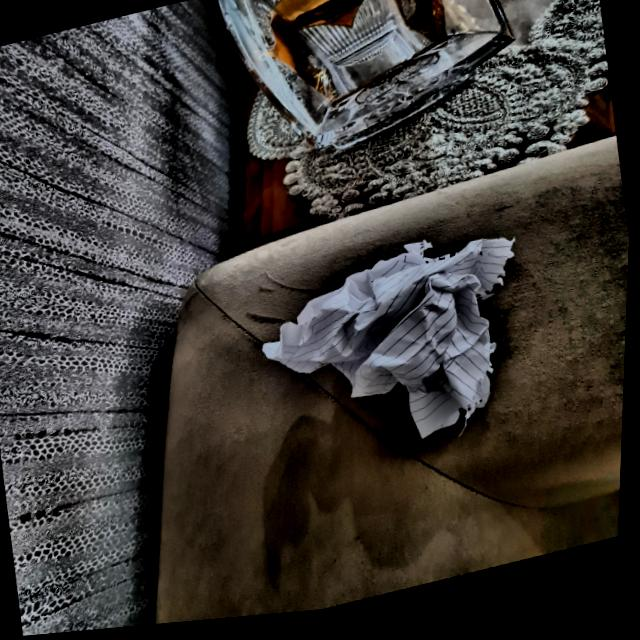Paper: (251, 223, 553, 481)
